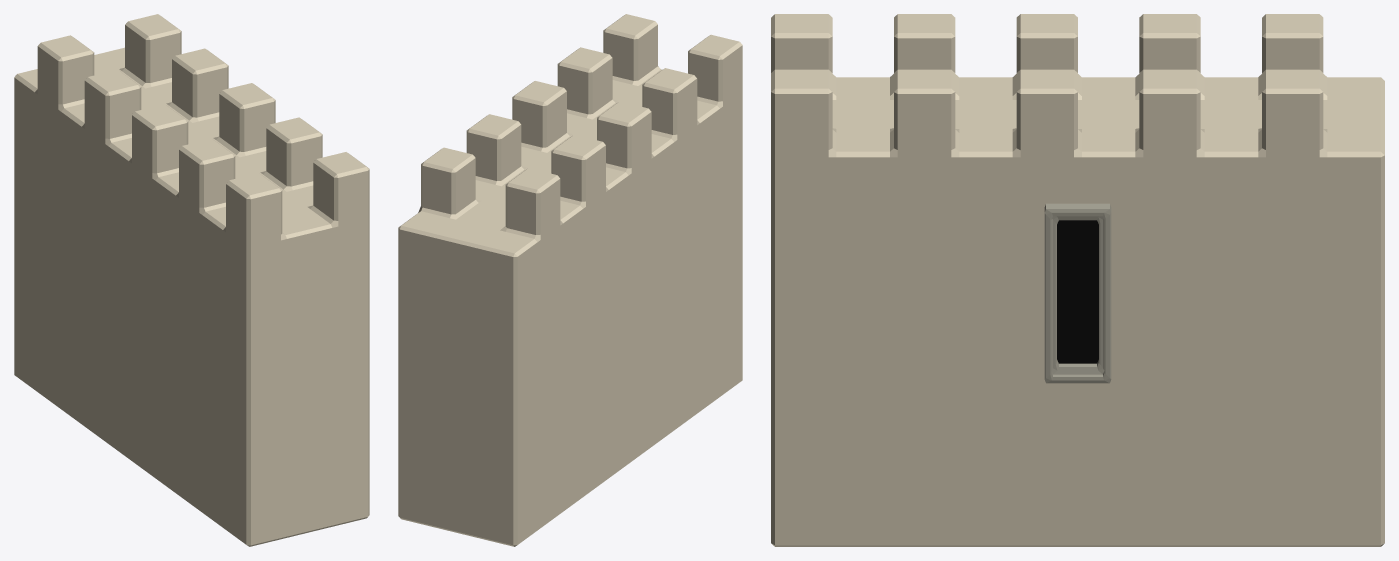
The model's file is WallPiece.fbx.
The picture shows the model from 3 angles, left to right: view 1: azimuth 30°, elevation 25°; view 2: azimuth 150°, elevation 25°; view 3: azimuth 270°, elevation 25°; orthographic projection. The views are drawn at different scales.
Visible parts, largest first — view 1: Wall.002; view 2: Wall.002; view 3: Wall.002, Window.007.
Boxes of the visible parts, x1=… form: Wall.002: x1=14, y1=14, x2=369, y2=546; Wall.002: x1=398, y1=14, x2=742, y2=546; Wall.002: x1=771, y1=14, x2=1384, y2=546; Window.007: x1=1044, y1=203, x2=1111, y2=383.
Size of the model in its own units: 255 by 644 by 781.
